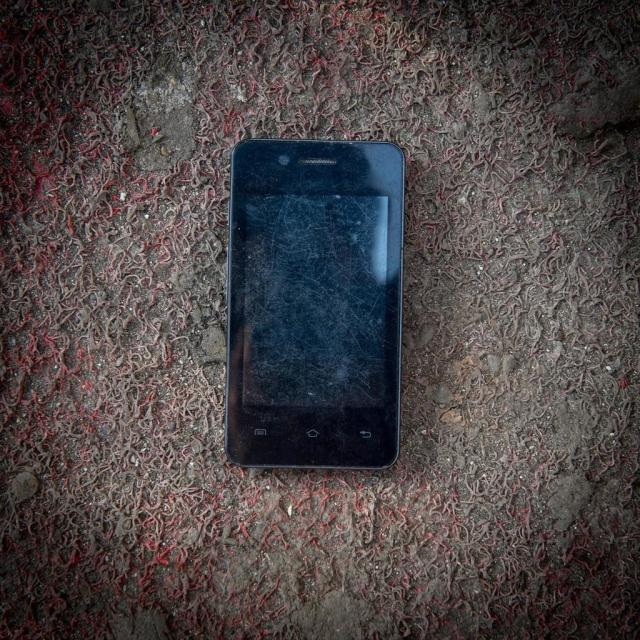Phone: (225, 137, 407, 469)
